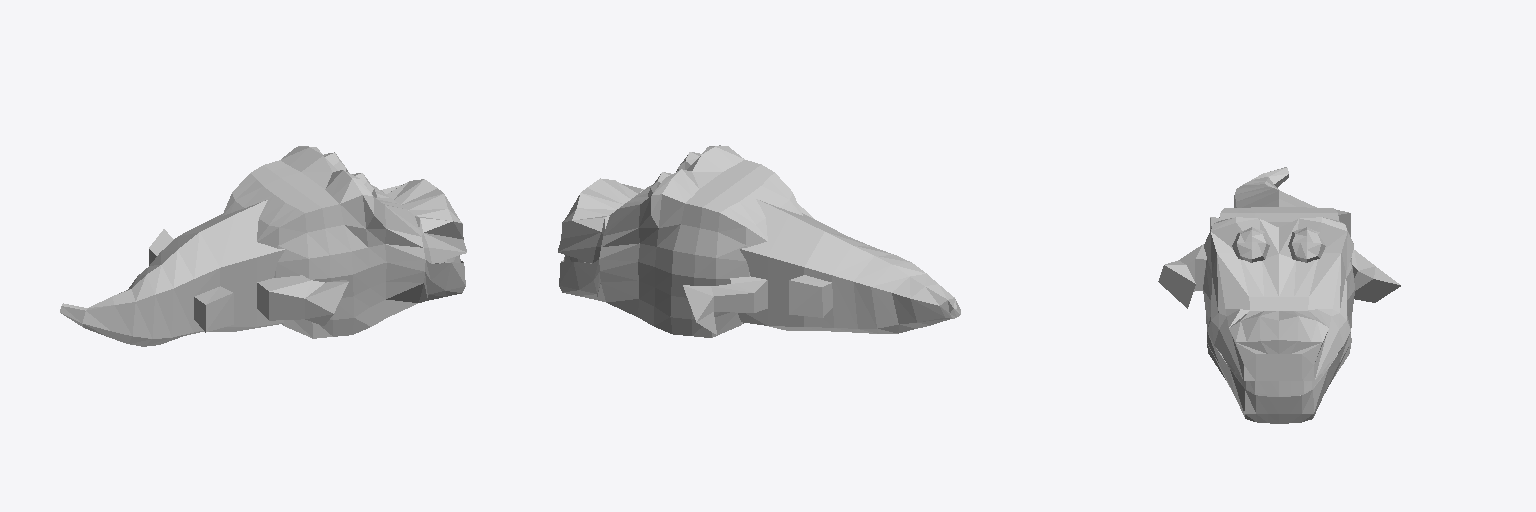
Rendered from croc0.obj.
The picture shows the model from 3 angles: view 1: azimuth 30°, elevation 25°; view 2: azimuth 150°, elevation 25°; view 3: azimuth 270°, elevation 25°; orthographic projection.
Visible parts, largest first — view 1: croc0_Cube.021; view 2: croc0_Cube.021; view 3: croc0_Cube.021.
Part boxes in pixels (x1,y1,x2,y2): croc0_Cube.021: (60,146,466,346); croc0_Cube.021: (558,145,960,337); croc0_Cube.021: (1158,167,1400,423).
Bounding box in the file's own units: 1.3 × 0.4792 × 0.7024.